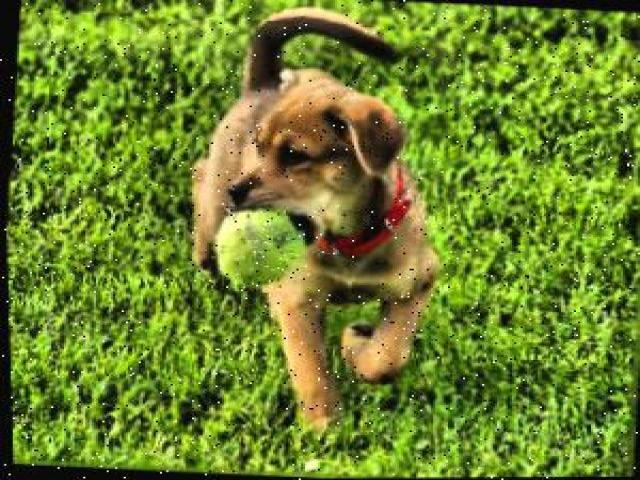tennis-ball: (215, 211, 307, 288)
